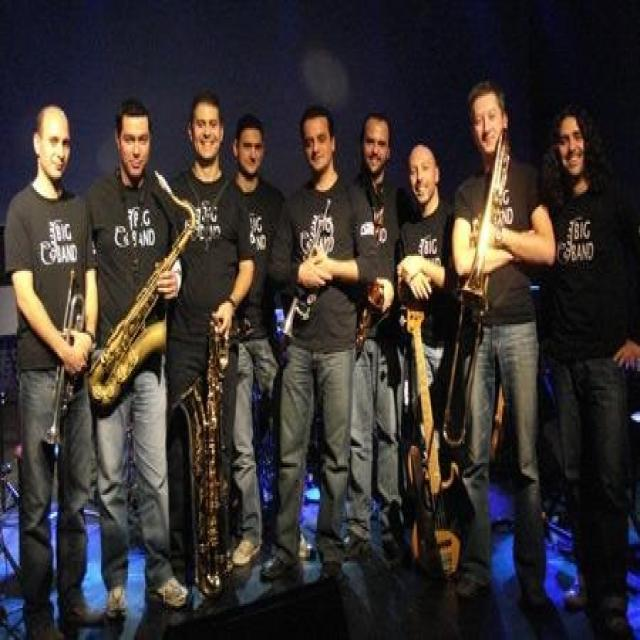saxophone: (89, 166, 200, 410), (172, 313, 233, 605)
